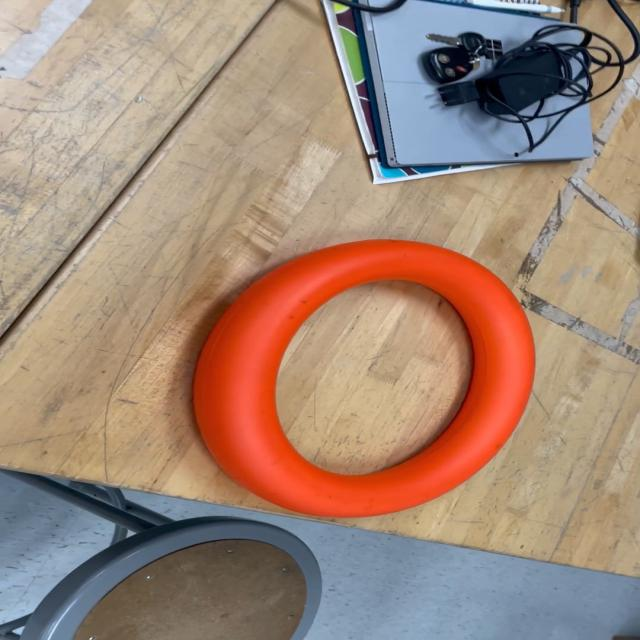note: (190, 238, 538, 518)
